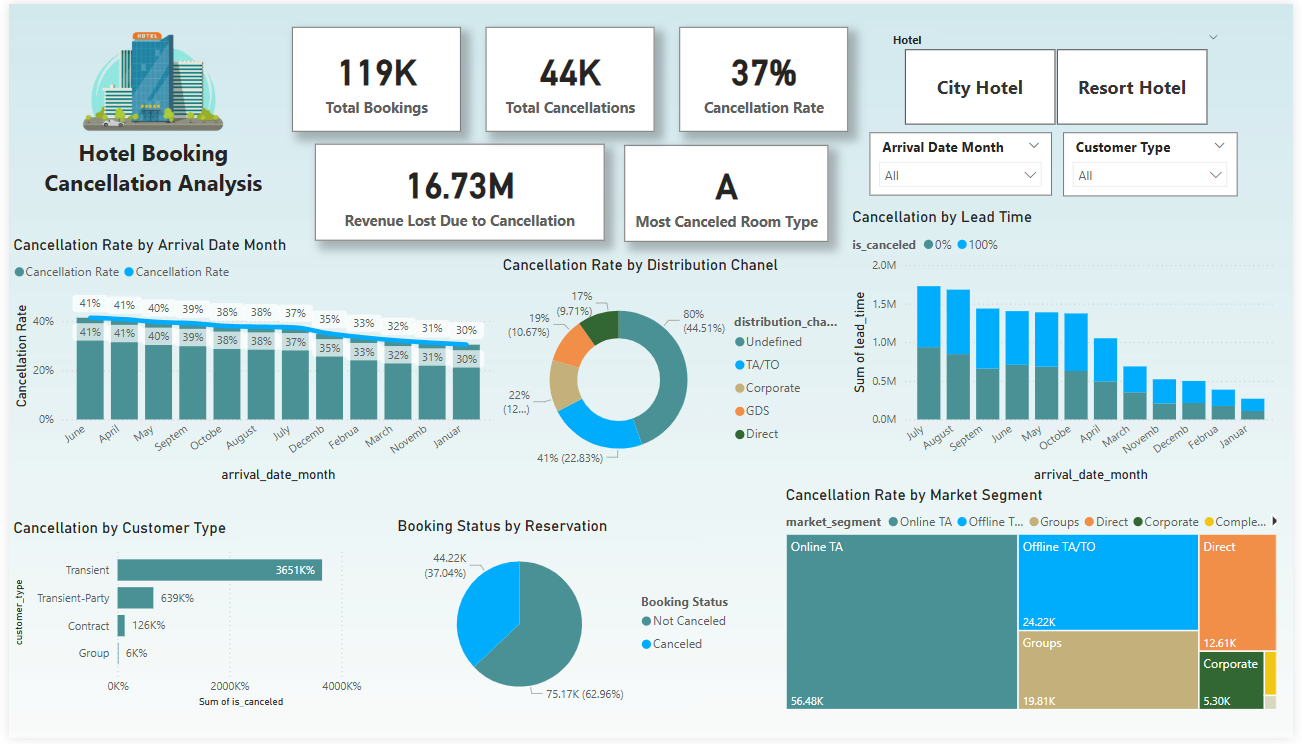

Layout of this report page (visuals, bound fields, positions):
{"tool":"powerbi","page":{"name":"Page 1","canvas":[1400,800],"ordinal":0},"visuals":[{"type":"donutChart","title":"Cancellation Rate by Distribution Chanel","fields":{"Y":["Modified_Hotel_Booking.Cancellation Rate"],"Category":["Modified_Hotel_Booking.distribution_channel"]},"box":[533.8,275,381.2,250],"z":0},{"type":"card","fields":{"Values":["Modified_Hotel_Booking.Total Bookings"]},"box":[308.3,25.4,184.3,114.3],"z":1000},{"type":"clusteredBarChart","title":"Cancellation by Customer Type","fields":{"Category":["Modified_Hotel_Booking.customer_type"],"Y":["Sum(Modified_Hotel_Booking.is_canceled)"]},"box":[0,561.4,414.3,210],"z":2000},{"type":"slicer","fields":{"Values":["Modified_Hotel_Booking.Hotel"]},"box":[951.2,25,380,113.8],"z":3000},{"type":"slicer","fields":{"Values":["Modified_Hotel_Booking.arrival_date_month"]},"box":[938.7,139.7,198.8,68.8],"z":4000},{"type":"slicer","fields":{"Values":["Modified_Hotel_Booking.customer_type"]},"box":[1150,139.7,190,70],"z":5000},{"type":"card","fields":{"Values":["Modified_Hotel_Booking.Revenue Lost Due to Cancellation"]},"box":[334,152.5,315.7,105.7],"z":6000},{"type":"card","fields":{"Values":["Modified_Hotel_Booking.Most Canceled Room Type"]},"box":[671.2,153.9,222.9,105.7],"z":7000},{"type":"lineClusteredColumnComboChart","title":"Cancellation Rate by Arrival Date Month","fields":{"Category":["Modified_Hotel_Booking.arrival_date_month"],"Y":["Modified_Hotel_Booking.Cancellation Rate"],"Y2":["Modified_Hotel_Booking.Cancellation Rate"]},"box":[0,252.5,533.8,273.8],"z":8000},{"type":"pieChart","title":"Booking Status by Reservation","fields":{"Y":["CountNonNull(Modified_Hotel_Booking.reservation_status)"],"Category":["Modified_Hotel_Booking.Booking Status"]},"box":[418.6,558.6,385.7,215.7],"z":9000},{"type":"treemap","title":"Cancellation Rate by Market Segment","fields":{"Group":["Modified_Hotel_Booking.market_segment"],"Values":["CountNonNull(Modified_Hotel_Booking.is_canceled)"]},"box":[842.5,525,545,250],"z":10000},{"type":"card","fields":{"Values":["Modified_Hotel_Booking.Total Cancellations"]},"box":[519.8,25.4,184.3,114.3],"z":11000},{"type":"card","fields":{"Values":["Modified_Hotel_Booking.Cancellation Rate"]},"box":[731.2,25.4,184.3,114.3],"z":12000},{"type":"textbox","box":[12.9,140,290,82.9],"z":13000},{"type":"image","box":[54.3,5.7,207.1,154.3],"z":14000},{"type":"columnChart","title":"Cancellation by Lead Time","fields":{"Category":["Modified_Hotel_Booking.arrival_date_month"],"Y":["Sum(Modified_Hotel_Booking.lead_time)"],"Series":["Modified_Hotel_Booking.is_canceled"]},"box":[915,222.5,472.5,303.8],"z":15000}]}

Visuals, with their boxes in screenshot pixels (x1, y1, x2, y2), scaled from the page's 1400x800 canvas onto the 1302x744 screenshot:
"Cancellation Rate by Distribution Chanel" donutChart: bbox=(496, 256, 851, 488)
card - Modified_Hotel_Booking.Total Bookings: bbox=(287, 24, 458, 130)
"Cancellation by Customer Type" clusteredBarChart: bbox=(0, 522, 385, 717)
slicer - Modified_Hotel_Booking.Hotel: bbox=(885, 23, 1238, 129)
slicer - Modified_Hotel_Booking.arrival_date_month: bbox=(873, 130, 1058, 194)
slicer - Modified_Hotel_Booking.customer_type: bbox=(1070, 130, 1246, 195)
card - Modified_Hotel_Booking.Revenue Lost Due to Cancellation: bbox=(311, 142, 604, 240)
card - Modified_Hotel_Booking.Most Canceled Room Type: bbox=(624, 143, 832, 241)
"Cancellation Rate by Arrival Date Month" lineClusteredColumnComboChart: bbox=(0, 235, 496, 489)
"Booking Status by Reservation" pieChart: bbox=(389, 519, 748, 720)
"Cancellation Rate by Market Segment" treemap: bbox=(784, 488, 1290, 721)
card - Modified_Hotel_Booking.Total Cancellations: bbox=(483, 24, 655, 130)
card - Modified_Hotel_Booking.Cancellation Rate: bbox=(680, 24, 851, 130)
textbox: bbox=(12, 130, 282, 207)
image: bbox=(50, 5, 243, 149)
"Cancellation by Lead Time" columnChart: bbox=(851, 207, 1290, 489)
